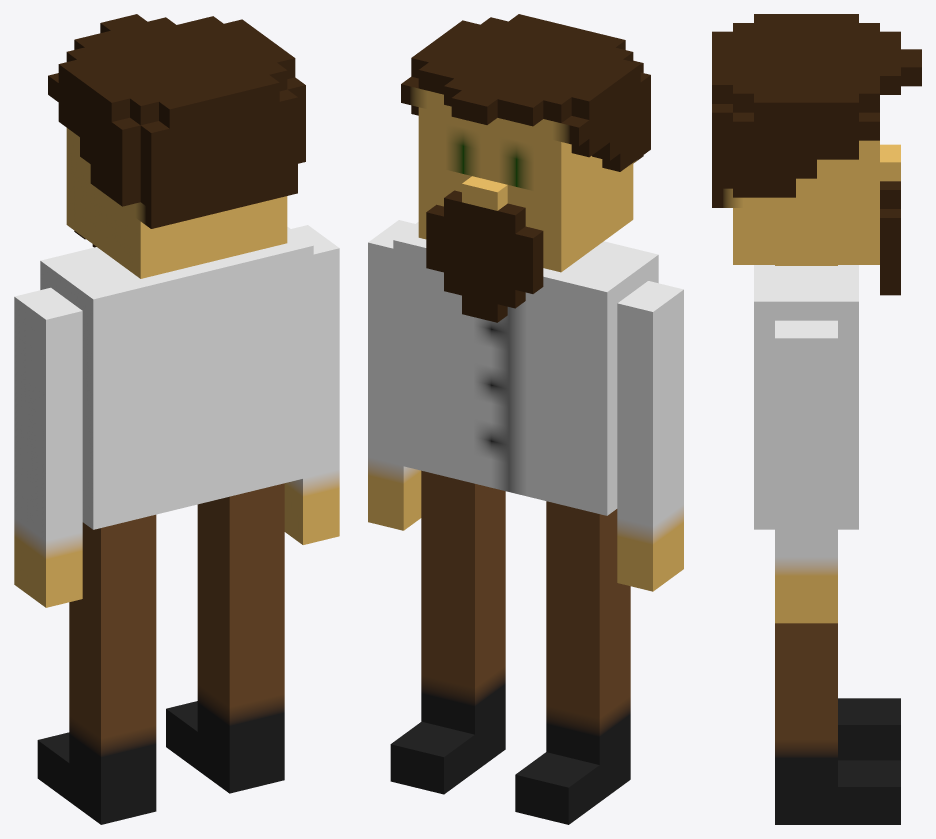
File: PlayerBOTTOMPIVOT.fbx
3 renders of one model, left to right at view 1: azimuth 30°, elevation 25°; view 2: azimuth 150°, elevation 25°; view 3: azimuth 270°, elevation 25°, orthographic. The views are drawn at different scales.
Size of the model in its own units: 16 by 38 by 10.
1 material, 1 textured.
